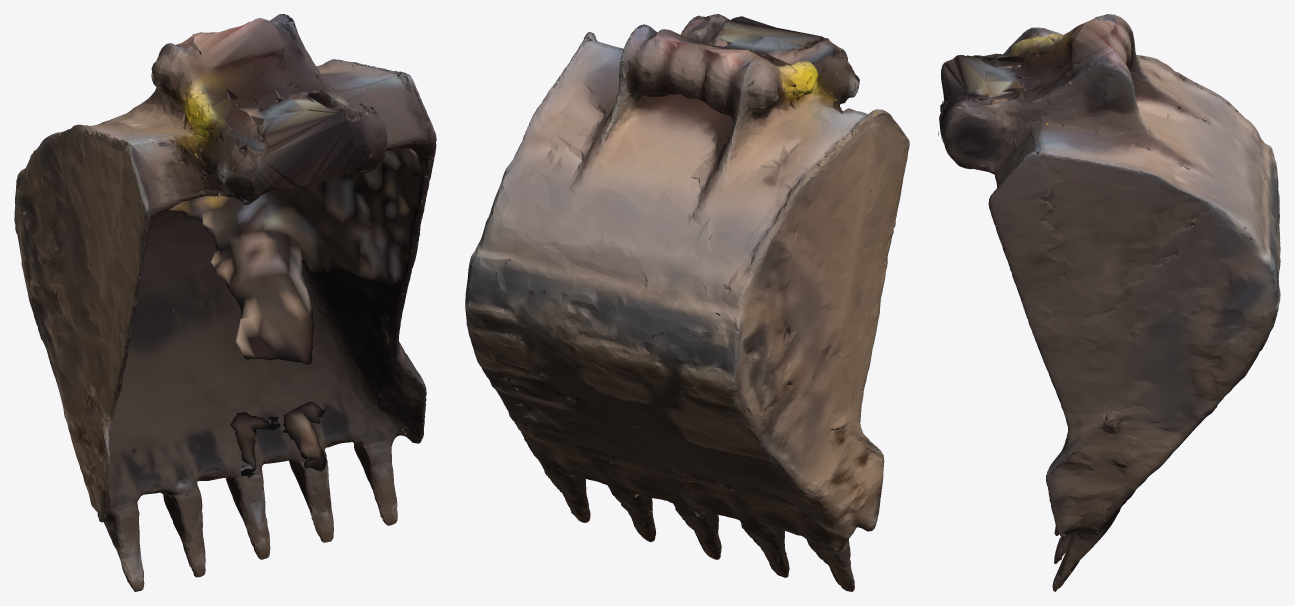
The model's file is bucket.fbx.
3 renders of one model, left to right at view 1: azimuth 30°, elevation 25°; view 2: azimuth 150°, elevation 25°; view 3: azimuth 270°, elevation 25°, orthographic. The views are drawn at different scales.
Parts seen in each view (by area): view 1: Bucket; view 2: Bucket; view 3: Bucket.
Part boxes in pixels (x1=…): Bucket: x1=14, y1=14, x2=436, y2=591; Bucket: x1=465, y1=14, x2=909, y2=591; Bucket: x1=938, y1=14, x2=1280, y2=591.
Size of the model in its own units: 43.27 by 66.69 by 41.71.
2 materials, 1 textured.
